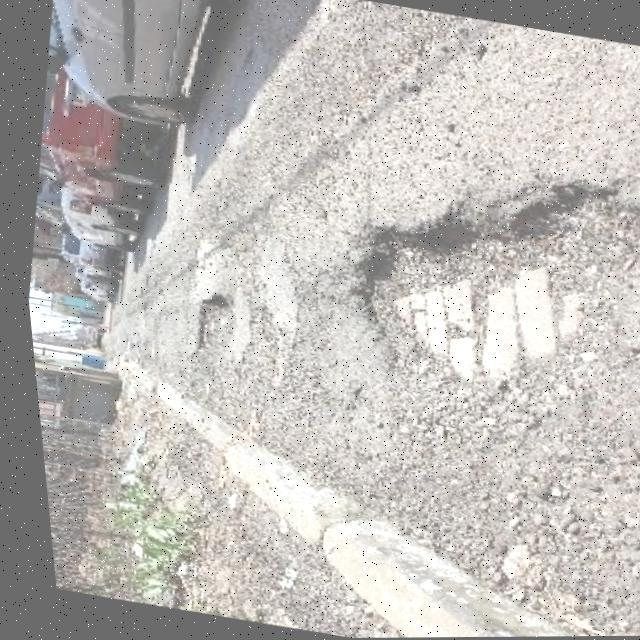pothole: (312, 140, 640, 428), (177, 287, 236, 358)
